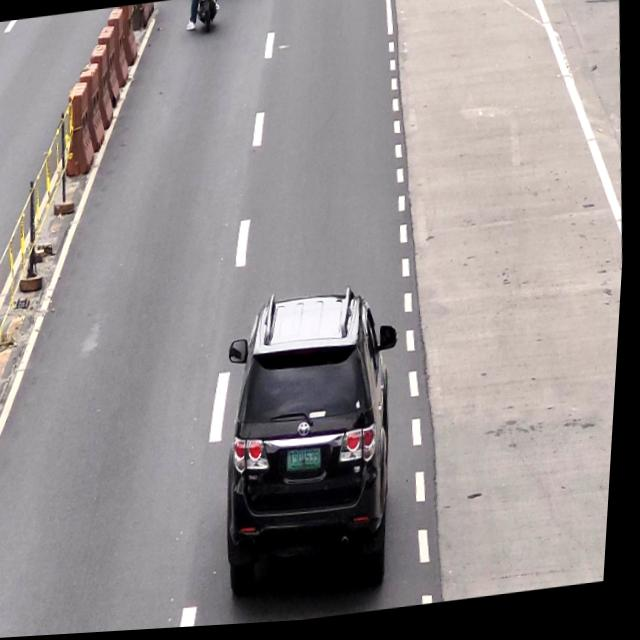Car: (214, 290, 409, 610)
License-Plate: (289, 450, 330, 483)
